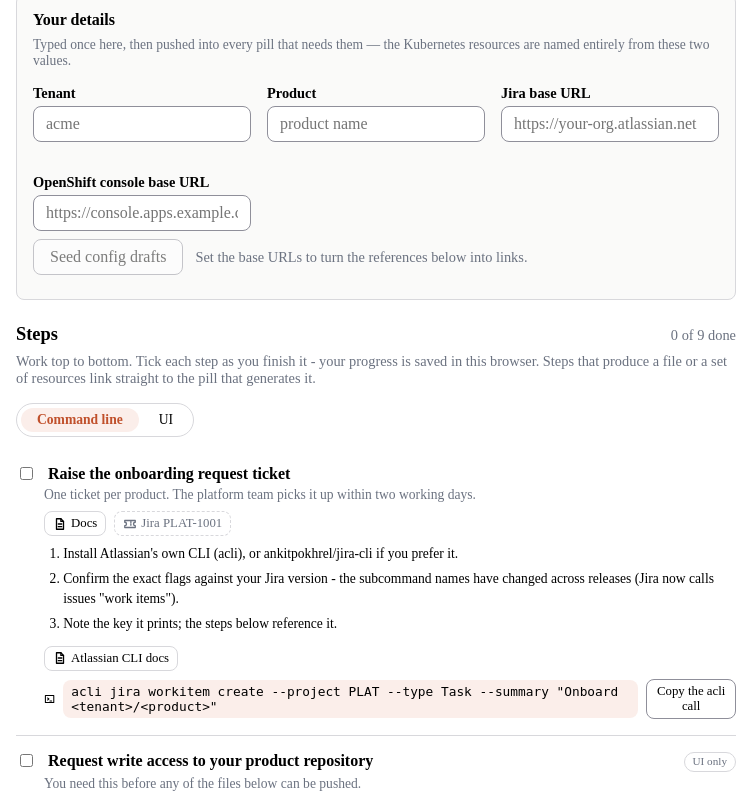
Test: OnboardingWorkspace › the CLI / UI switch › still shows a step’s only route when there is no choice to make
Click the radio button labelled "UI". click: [166, 420]
box: [159,412,173,427]
(page scrolled)
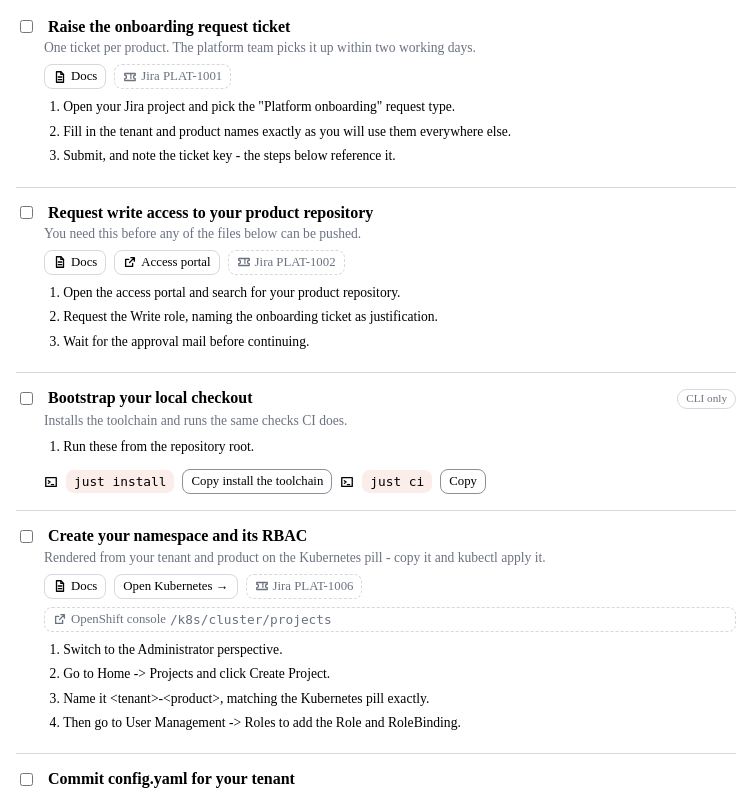
expect the list item "Run these from the repository root." is shown: met, box [63,439,254,454]
expect the text "CLI only" is shown: met, box [677,389,736,409]
